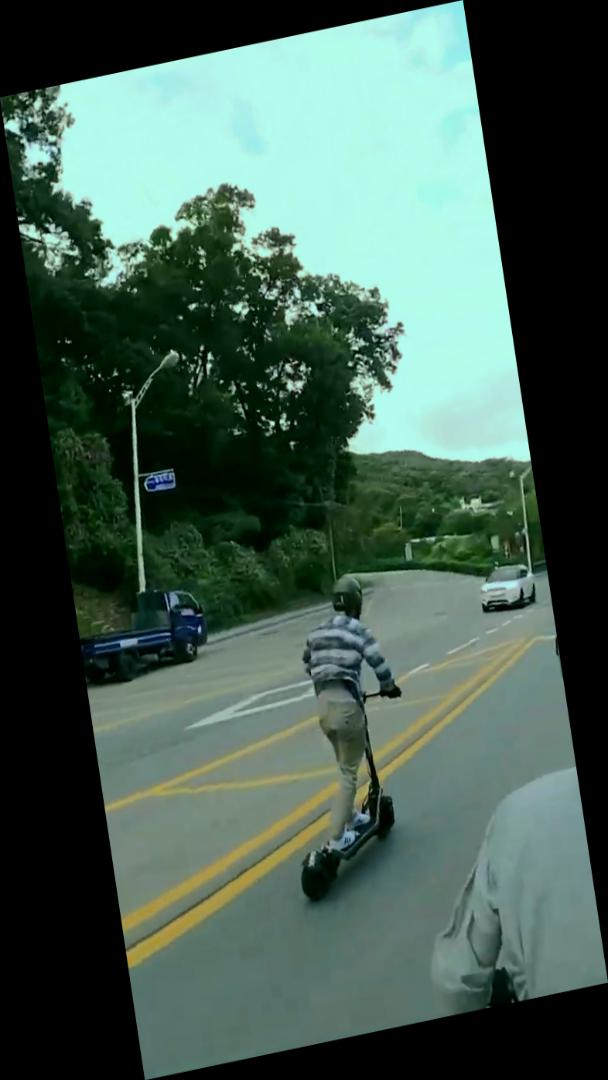helmet: (256, 564, 430, 903)
